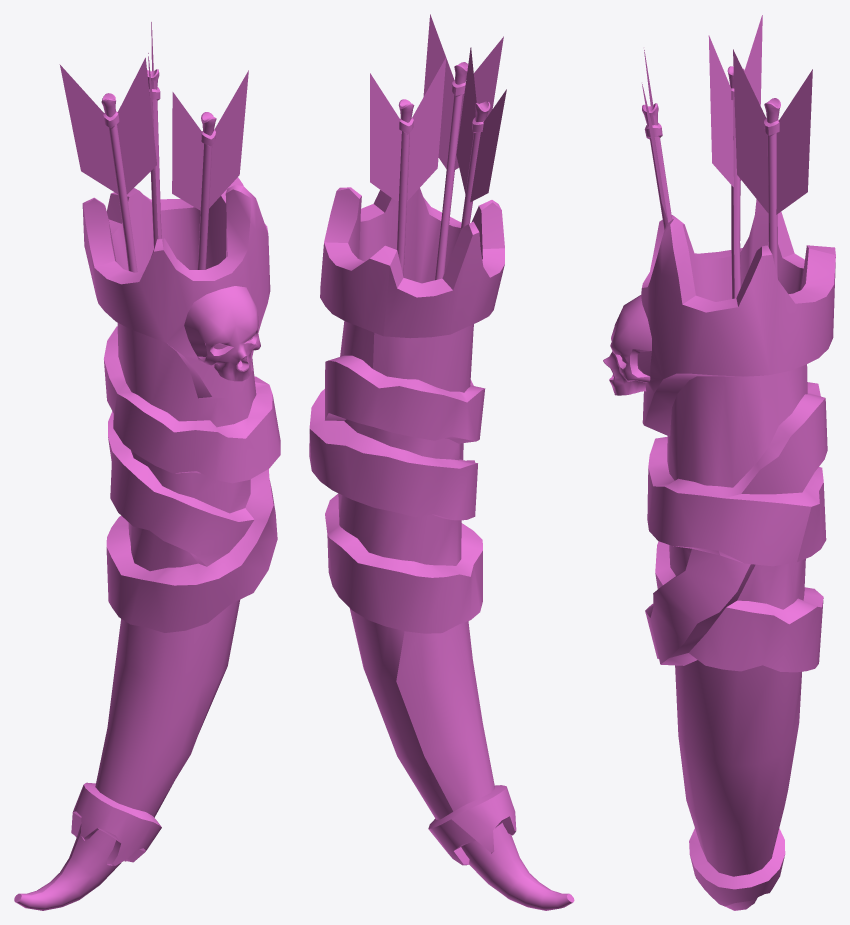
The model's file is SM_Undead_Quiver_2.fbx.
3 renders of one model, left to right at view 1: azimuth 30°, elevation 25°; view 2: azimuth 150°, elevation 25°; view 3: azimuth 270°, elevation 25°, orthographic. The views are drawn at different scales.
Visible parts, largest first — view 1: SM_Undead_Quiver_2; view 2: SM_Undead_Quiver_2; view 3: SM_Undead_Quiver_2.
Boxes of the visible parts, left/top/right/bottom form: SM_Undead_Quiver_2: left=14, top=22, right=280, bottom=910; SM_Undead_Quiver_2: left=309, top=14, right=574, bottom=910; SM_Undead_Quiver_2: left=603, top=15, right=835, bottom=910.
Bounding box in the file's own units: 0.3562 × 1.12 × 0.2601.
